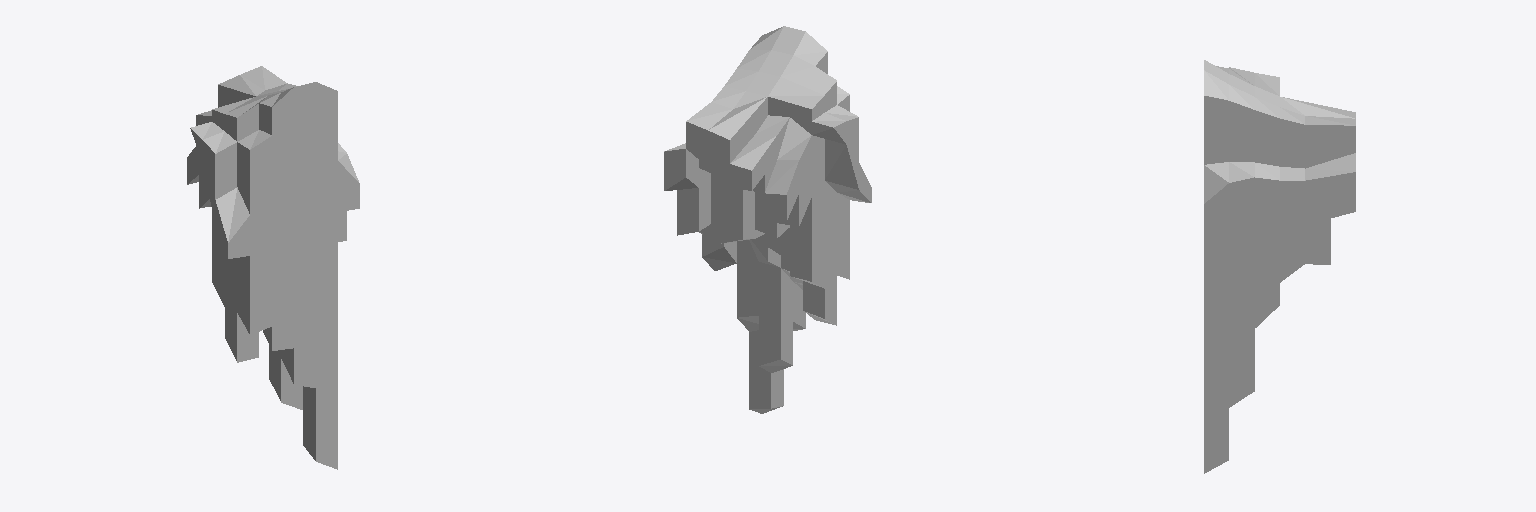
Rendered from Bot_Runner_LOD0-1.obj.
3 views of the same model, side by side, from view 1: azimuth 30°, elevation 25°; view 2: azimuth 150°, elevation 25°; view 3: azimuth 270°, elevation 25° (orthographic).
Visible parts, largest first — view 1: Bot_Runner_LOD0-1; view 2: Bot_Runner_LOD0-1; view 3: Bot_Runner_LOD0-1.
Part boxes in pixels (x1,y1,x2,y2): Bot_Runner_LOD0-1: (187,66,359,469); Bot_Runner_LOD0-1: (664,26,871,413); Bot_Runner_LOD0-1: (1204,60,1355,473).
Size of the model in its own units: 0.6 by 1.71 by 0.6.